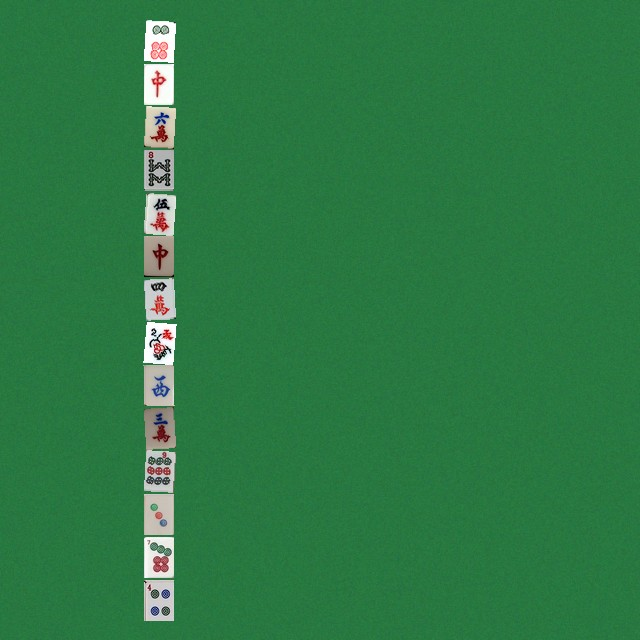tile: (143, 20, 173, 61), (143, 63, 173, 104), (143, 106, 173, 147), (143, 149, 173, 190), (143, 192, 173, 233), (143, 235, 173, 276), (143, 278, 173, 319), (143, 321, 173, 362), (143, 364, 173, 405), (143, 407, 173, 448), (143, 450, 173, 491), (143, 493, 173, 534), (143, 536, 173, 577), (143, 579, 173, 620)
